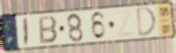6: (90, 11, 107, 41)
8: (67, 12, 84, 43)
B: (37, 15, 59, 45)
D: (136, 6, 158, 39)
I: (23, 16, 29, 48)
Z: (114, 9, 137, 39)
